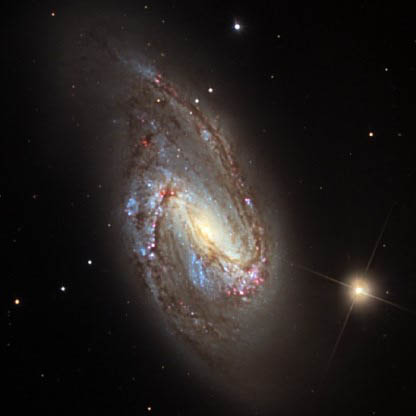Messier 66: (39, 12, 392, 403)
